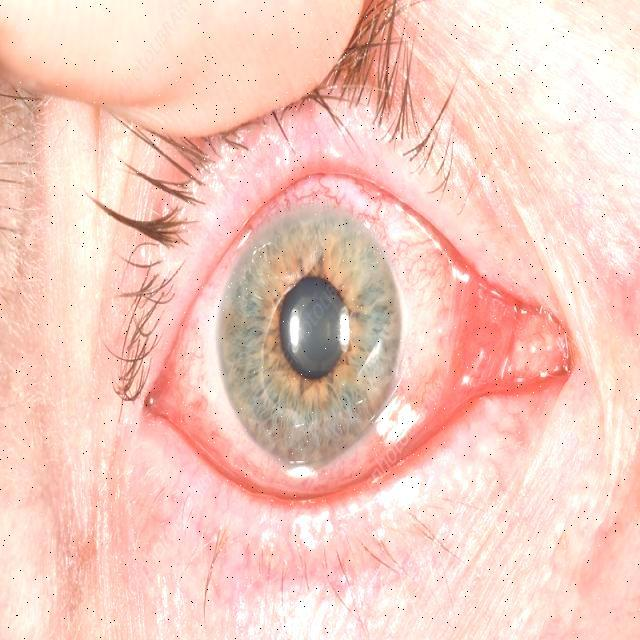Conjunctivitis: (123, 183, 576, 516)
